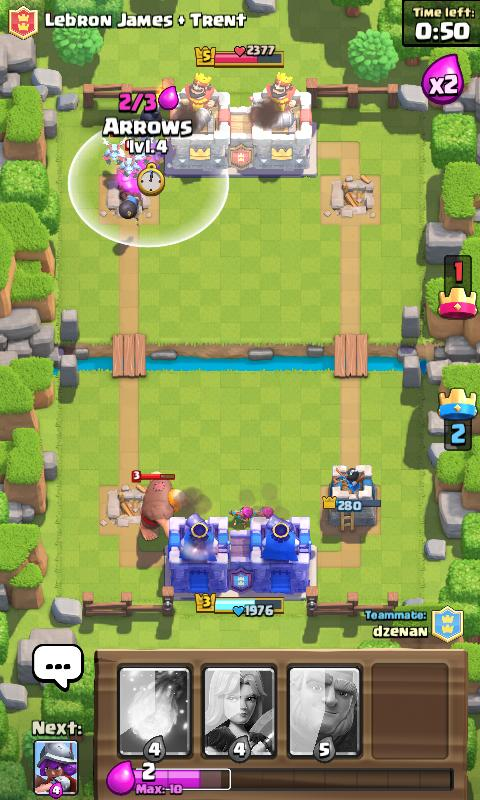ally_archer: (226, 504, 254, 528), (252, 506, 274, 519)
ally_bomber: (117, 193, 141, 222)
enemy_giant: (130, 464, 186, 542)
enemy_minion: (119, 138, 139, 176), (101, 135, 125, 165)
